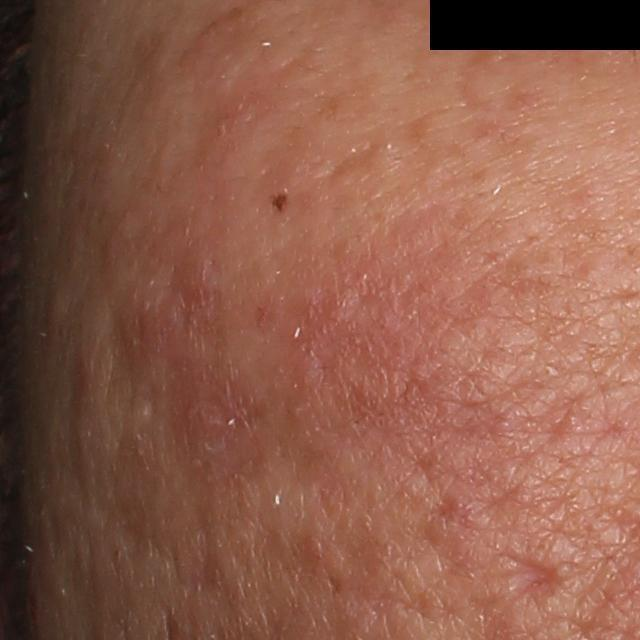atrophic_scar: (500, 553, 566, 611)
nevus: (266, 188, 290, 217)
